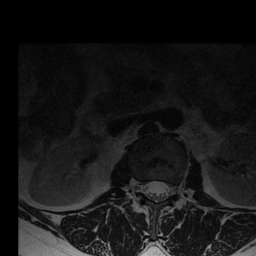CCS_normal: (152, 171, 161, 210)
LFS_normal: (170, 173, 178, 204)
LLS_normal: (161, 171, 170, 206)
RFS_normal: (133, 169, 143, 200)
RLS_normal: (142, 172, 152, 205)
